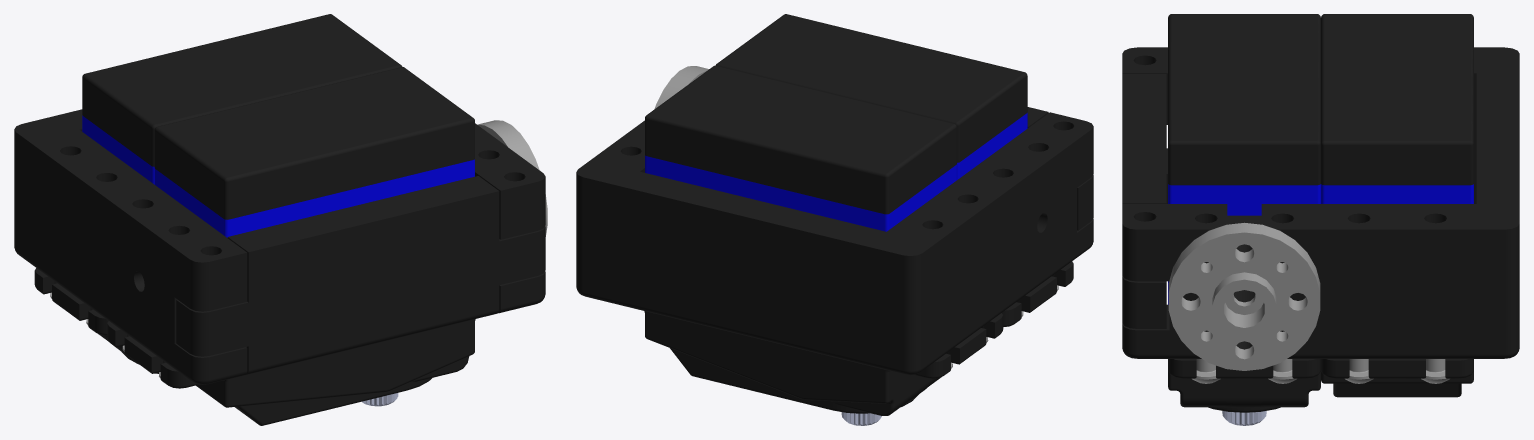
The model's file is lf_shoulder.obj.
3 renders of one model, left to right at view 1: azimuth 30°, elevation 25°; view 2: azimuth 150°, elevation 25°; view 3: azimuth 270°, elevation 25°, orthographic. The views are drawn at different scales.
Visible parts, largest first — view 1: Body7, Body6, Body2, Body2:1, Body4, Body1, Body4:1, Body1:1, Body1:10; view 2: Body6, Body2:1, Body2, Body4:1, Body1:1, Body4, Body1, Body7, Body1:10; view 3: Body6, Body2, Body2:1, Body1:10, Body7, Body4, Body4:1, Body1, Body1:1, Body3, Body1:9, Body1:8 (+2 smaller).
Part boxes in pixels (bbox=[...]): Body7: bbox=[176, 176, 545, 374]; Body6: bbox=[14, 109, 545, 384]; Body2: bbox=[154, 67, 474, 219]; Body2:1: bbox=[82, 14, 402, 166]; Body4: bbox=[107, 319, 475, 425]; Body1: bbox=[154, 159, 474, 237]; Body4:1: bbox=[34, 268, 158, 373]; Body1:1: bbox=[82, 115, 154, 184]; Body1:10: bbox=[477, 120, 547, 236]; Body6: bbox=[576, 112, 1093, 375]; Body2:1: bbox=[645, 65, 956, 214]; Body2: bbox=[715, 14, 1027, 162]; Body4:1: bbox=[644, 311, 1003, 415]; Body1:1: bbox=[645, 155, 956, 231]; Body4: bbox=[1002, 261, 1073, 326]; Body1: bbox=[957, 112, 1027, 179]; Body7: bbox=[1027, 107, 1093, 230]; Body1:10: bbox=[654, 66, 708, 109]; Body6: bbox=[1122, 47, 1519, 358]; Body2: bbox=[1168, 14, 1320, 185]; Body2:1: bbox=[1321, 14, 1473, 185]; Body1:10: bbox=[1168, 222, 1320, 370]; Body7: bbox=[1122, 74, 1166, 328]; Body4: bbox=[1168, 359, 1320, 412]; Body4:1: bbox=[1321, 359, 1473, 397]; Body1: bbox=[1168, 184, 1320, 304]; Body1:1: bbox=[1321, 184, 1473, 203]; Body3: bbox=[1222, 411, 1266, 425]; Body1:9: bbox=[1421, 359, 1449, 383]; Body1:8: bbox=[1345, 359, 1373, 383].
Size of the model in its own units: 0.0618 by 0.0445 by 0.052.
